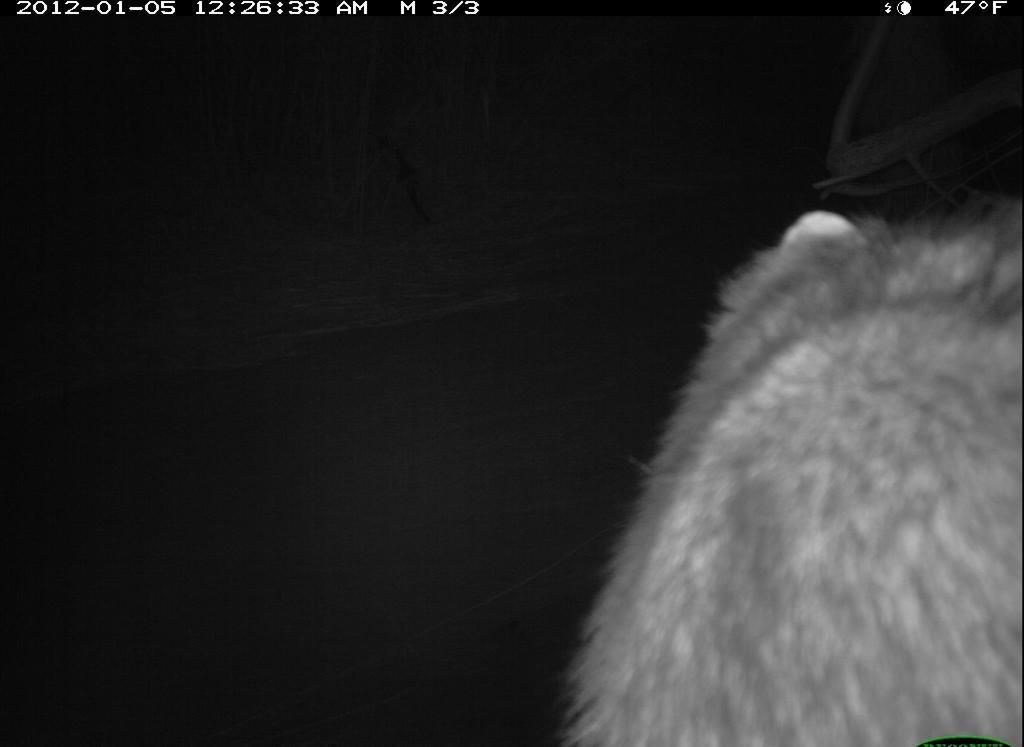raccoon: (553, 180, 1022, 747)
